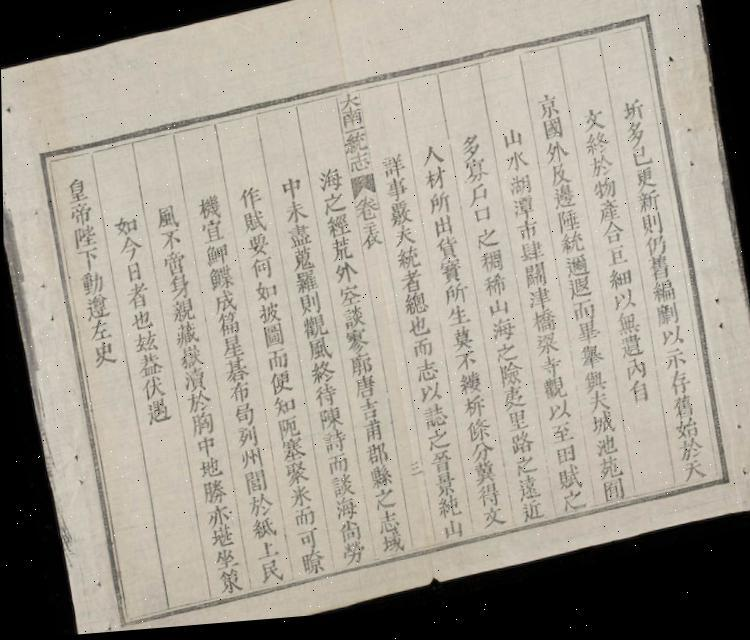c: (113, 233, 145, 265), (212, 568, 244, 600), (662, 377, 694, 409), (79, 291, 112, 322), (87, 338, 118, 371), (417, 406, 449, 437), (197, 478, 228, 510), (294, 551, 326, 582), (140, 398, 172, 429), (121, 280, 151, 313), (132, 351, 165, 381), (314, 168, 345, 199), (455, 138, 485, 170), (578, 112, 608, 144), (574, 350, 606, 380), (532, 97, 562, 129), (258, 324, 288, 355), (205, 266, 236, 296), (410, 361, 441, 391), (326, 238, 356, 269), (238, 210, 269, 240), (325, 475, 356, 505), (461, 422, 492, 452), (453, 375, 484, 405), (519, 268, 550, 298), (193, 193, 223, 224), (238, 469, 269, 499), (175, 344, 206, 374), (219, 358, 250, 388), (494, 366, 525, 396), (486, 322, 517, 352), (163, 273, 193, 304), (537, 382, 568, 412), (245, 516, 277, 545), (498, 390, 528, 420), (552, 470, 582, 500), (471, 487, 501, 517), (276, 438, 306, 468), (528, 314, 558, 344), (280, 461, 310, 491), (471, 230, 501, 260), (460, 162, 490, 192), (504, 436, 534, 466), (298, 316, 328, 346), (170, 321, 200, 351), (186, 411, 216, 441), (435, 263, 465, 293), (475, 254, 505, 284), (166, 298, 196, 328), (158, 250, 188, 280), (360, 444, 390, 474), (666, 401, 696, 431), (622, 386, 652, 416), (287, 248, 317, 278), (585, 418, 616, 447), (242, 494, 273, 523), (647, 287, 678, 316), (204, 524, 236, 552), (673, 445, 705, 473), (676, 467, 708, 495), (556, 495, 588, 523), (592, 462, 622, 491), (658, 354, 688, 383), (76, 268, 106, 297), (512, 480, 541, 510), (254, 560, 284, 589), (336, 543, 366, 572), (379, 156, 408, 186), (432, 498, 461, 528), (68, 222, 98, 251), (596, 227, 626, 256), (615, 341, 645, 370), (564, 282, 594, 311), (364, 466, 393, 496), (530, 338, 560, 367), (432, 240, 461, 270), (306, 362, 336, 391), (552, 214, 582, 243), (243, 234, 272, 264), (420, 170, 449, 200), (425, 194, 454, 224), (468, 465, 498, 494), (328, 499, 358, 528), (138, 374, 168, 403), (130, 328, 160, 357), (197, 218, 226, 248), (318, 432, 348, 461), (178, 367, 208, 396), (457, 399, 487, 428), (548, 191, 578, 220), (581, 137, 611, 166), (604, 273, 634, 302), (612, 318, 642, 347), (508, 200, 537, 230), (337, 307, 367, 336), (447, 330, 476, 360), (62, 176, 91, 206), (216, 334, 245, 364), (181, 390, 212, 418), (399, 295, 430, 323), (386, 203, 414, 234), (584, 160, 615, 188), (309, 386, 340, 414), (213, 312, 242, 341), (426, 453, 455, 482), (396, 272, 425, 301), (381, 180, 410, 209), (284, 224, 313, 253), (392, 249, 421, 278), (303, 339, 332, 368), (265, 371, 294, 400), (476, 510, 506, 538), (630, 173, 658, 203), (542, 404, 572, 432), (276, 177, 304, 207), (152, 203, 180, 233), (230, 426, 260, 454), (84, 317, 114, 345), (313, 409, 343, 437), (500, 154, 530, 182), (342, 331, 370, 361), (262, 348, 290, 378), (516, 245, 546, 273), (524, 292, 554, 320), (290, 272, 320, 300), (644, 262, 672, 292), (208, 290, 238, 318), (556, 238, 586, 266), (202, 504, 232, 532), (110, 212, 140, 240), (253, 302, 283, 330), (280, 202, 310, 230), (72, 246, 102, 274), (64, 200, 94, 228), (234, 447, 264, 475), (589, 440, 619, 468), (372, 512, 401, 540), (636, 220, 665, 248), (209, 547, 238, 575), (619, 364, 648, 392), (414, 384, 443, 412), (618, 104, 647, 132), (195, 456, 224, 484), (235, 186, 263, 215), (561, 260, 590, 288), (349, 378, 378, 406), (505, 178, 534, 206), (345, 356, 374, 384), (201, 244, 230, 272), (331, 263, 360, 291), (322, 216, 351, 244), (608, 296, 637, 324), (333, 286, 362, 314), (579, 376, 608, 404), (542, 145, 570, 174), (295, 294, 324, 322), (598, 484, 627, 512), (246, 258, 275, 286), (582, 396, 611, 424), (572, 326, 600, 355), (516, 504, 546, 531), (656, 333, 686, 360), (588, 184, 618, 211), (632, 198, 662, 225), (651, 311, 681, 338), (440, 287, 470, 314), (670, 425, 700, 452), (334, 521, 362, 549), (546, 428, 574, 456), (418, 147, 446, 175), (319, 194, 347, 222), (480, 278, 508, 306), (536, 360, 564, 388), (272, 418, 300, 446), (594, 206, 622, 234), (491, 346, 519, 374), (464, 188, 492, 216), (284, 486, 312, 514), (626, 151, 654, 179), (430, 476, 458, 504), (376, 534, 404, 562), (502, 414, 530, 442), (291, 530, 320, 557), (155, 228, 184, 255), (368, 491, 397, 518), (442, 308, 471, 335), (126, 308, 155, 335), (549, 449, 578, 476), (621, 128, 648, 157), (321, 455, 350, 482), (250, 281, 279, 308), (464, 445, 494, 471), (224, 382, 254, 408), (341, 134, 369, 161), (288, 507, 316, 534), (228, 402, 255, 430), (404, 318, 432, 345), (429, 218, 456, 246), (512, 223, 540, 250), (422, 432, 450, 459), (352, 200, 380, 227), (357, 422, 384, 450), (483, 302, 512, 328), (268, 396, 297, 422), (436, 522, 465, 548), (251, 540, 280, 566), (408, 340, 435, 367), (640, 243, 668, 269), (602, 252, 630, 278), (568, 306, 596, 332), (450, 354, 478, 380), (390, 229, 418, 255), (538, 124, 566, 150), (498, 132, 526, 158), (510, 460, 538, 486), (191, 435, 219, 461), (546, 170, 572, 197), (119, 259, 146, 285), (354, 401, 380, 427), (468, 210, 495, 234), (345, 155, 370, 179), (340, 112, 364, 136), (336, 96, 362, 117), (359, 236, 383, 256), (404, 462, 422, 484), (360, 224, 379, 240), (344, 132, 365, 140)
